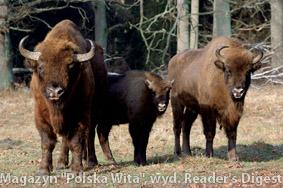zubr: (7, 10, 117, 181), (166, 21, 266, 174), (90, 46, 181, 161)
